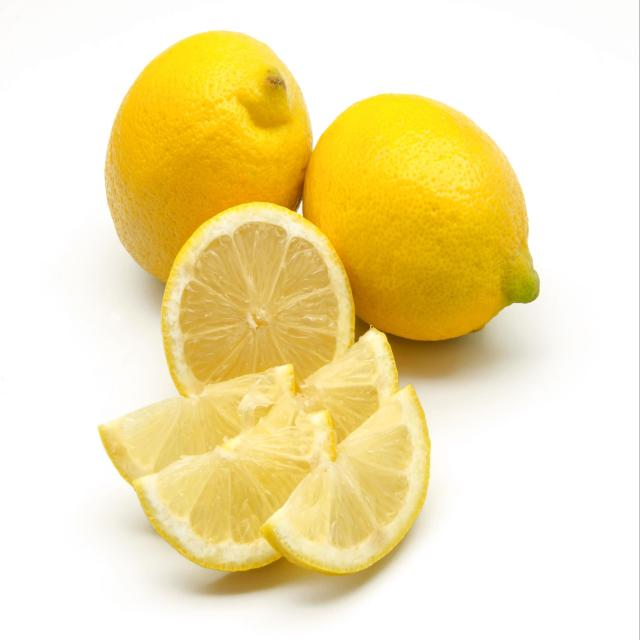lemon: (90, 323, 436, 581)
